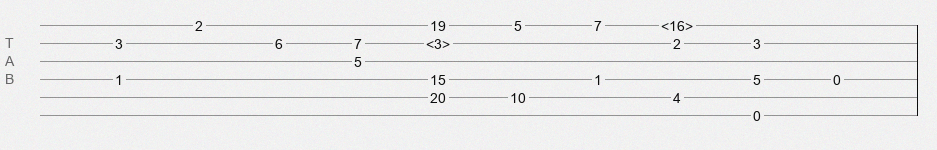0: (753, 108, 761, 118), (833, 72, 841, 82)
1: (115, 72, 123, 82), (594, 72, 602, 82)
10: (510, 90, 526, 100)
15: (430, 72, 446, 82)
19: (430, 18, 446, 28)
2: (195, 18, 203, 28), (673, 36, 681, 46)
20: (430, 90, 446, 100)
3: (115, 36, 123, 46), (753, 36, 761, 46)
4: (673, 90, 681, 100)
5: (354, 54, 362, 64), (514, 18, 522, 28), (753, 72, 761, 82)
6: (275, 36, 283, 46)
7: (354, 36, 362, 46), (594, 18, 602, 28)
harmonic: (661, 18, 693, 28), (426, 36, 450, 46)
